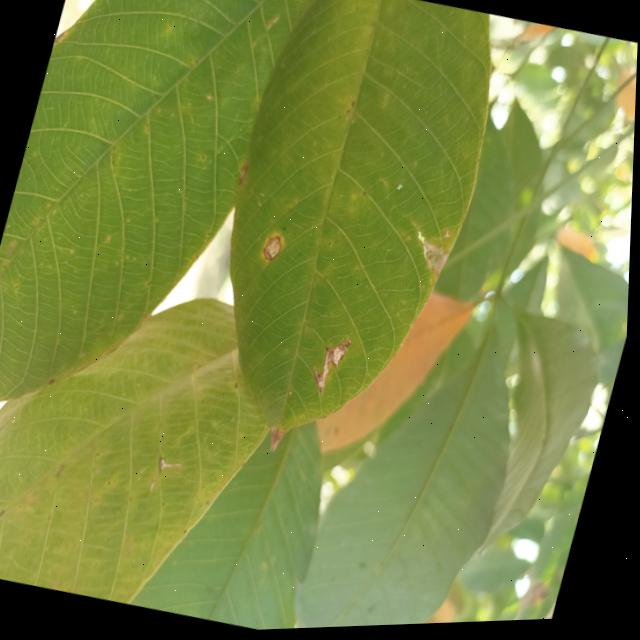Leaf-Blight: (416, 242, 454, 283), (313, 347, 338, 394), (261, 230, 290, 267), (268, 425, 291, 455), (334, 347, 349, 365), (54, 27, 68, 45)
